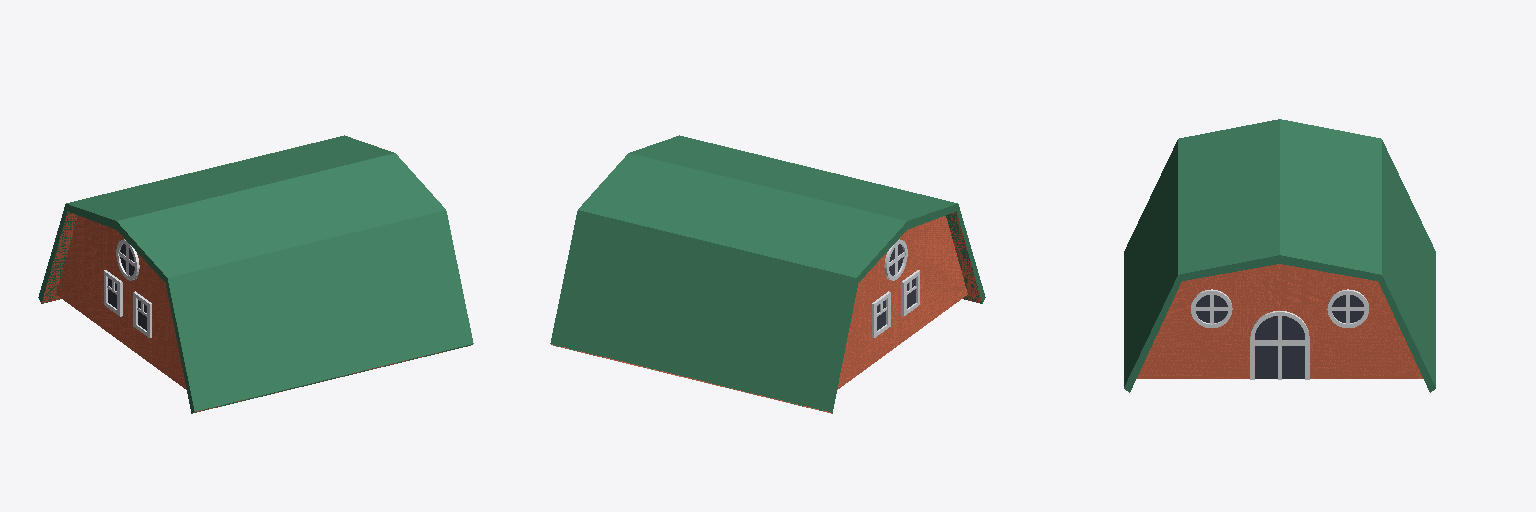
3 renders of one model, left to right at view 1: azimuth 30°, elevation 25°; view 2: azimuth 150°, elevation 25°; view 3: azimuth 270°, elevation 25°, orthographic.
Visible parts, largest first — view 1: roof_barn_5, roof_barn_6, window_detail_double_11, window_round_detail_12; view 2: roof_barn_6, roof_barn_5, window_detail_double_11, window_round_detail_12; view 3: roof_barn_5, roof_barn_6, door_rounded_wide_7, window_round_detail_8, window_round_detail_9.
Part boxes in pixels (x1,y1,x2,y2): roof_barn_5: (117, 153, 473, 413); roof_barn_6: (38, 135, 393, 347); window_detail_double_11: (104, 270, 151, 337); window_round_detail_12: (116, 239, 139, 280); roof_barn_6: (550, 153, 906, 413); roof_barn_5: (630, 135, 985, 347); window_detail_double_11: (872, 270, 919, 337); window_round_detail_12: (884, 239, 907, 280); roof_barn_5: (1124, 119, 1279, 392); roof_barn_6: (1280, 119, 1435, 392); door_rounded_wide_7: (1250, 311, 1309, 379); window_round_detail_8: (1191, 289, 1232, 327); window_round_detail_9: (1327, 289, 1368, 327).
Size of the model in its own units: 3.3 by 1.56 by 3.2.